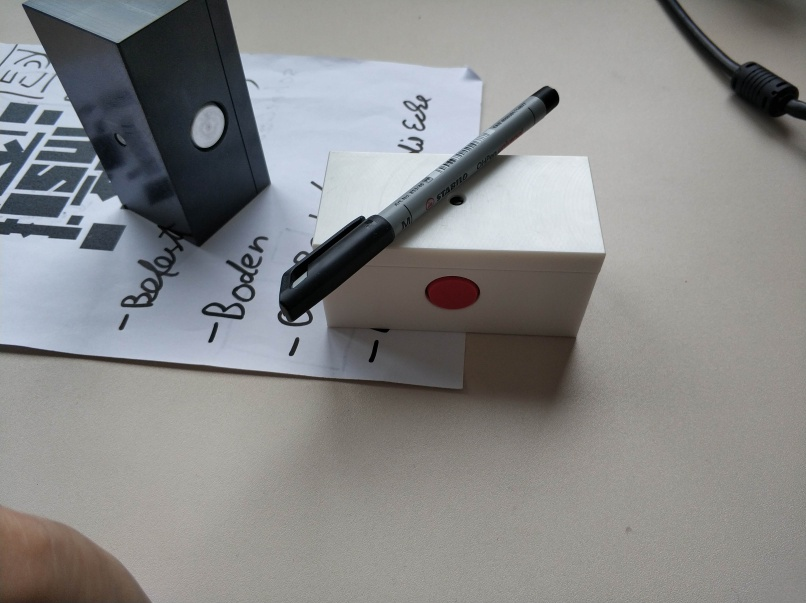black+black+silver: (19, 1, 274, 251)
white+white+red: (307, 147, 607, 340)
